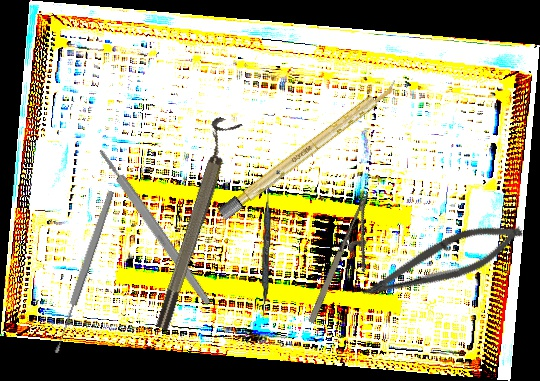Fixation Ring: (143, 115, 243, 332)
Micro Scissor: (354, 207, 530, 320)
Needle Holder: (303, 191, 396, 334)
Scalpel Handle: (216, 77, 402, 221), (96, 146, 213, 307)
Spatula Surgical: (261, 177, 272, 317)
Surgical Spoon: (50, 189, 117, 355)
